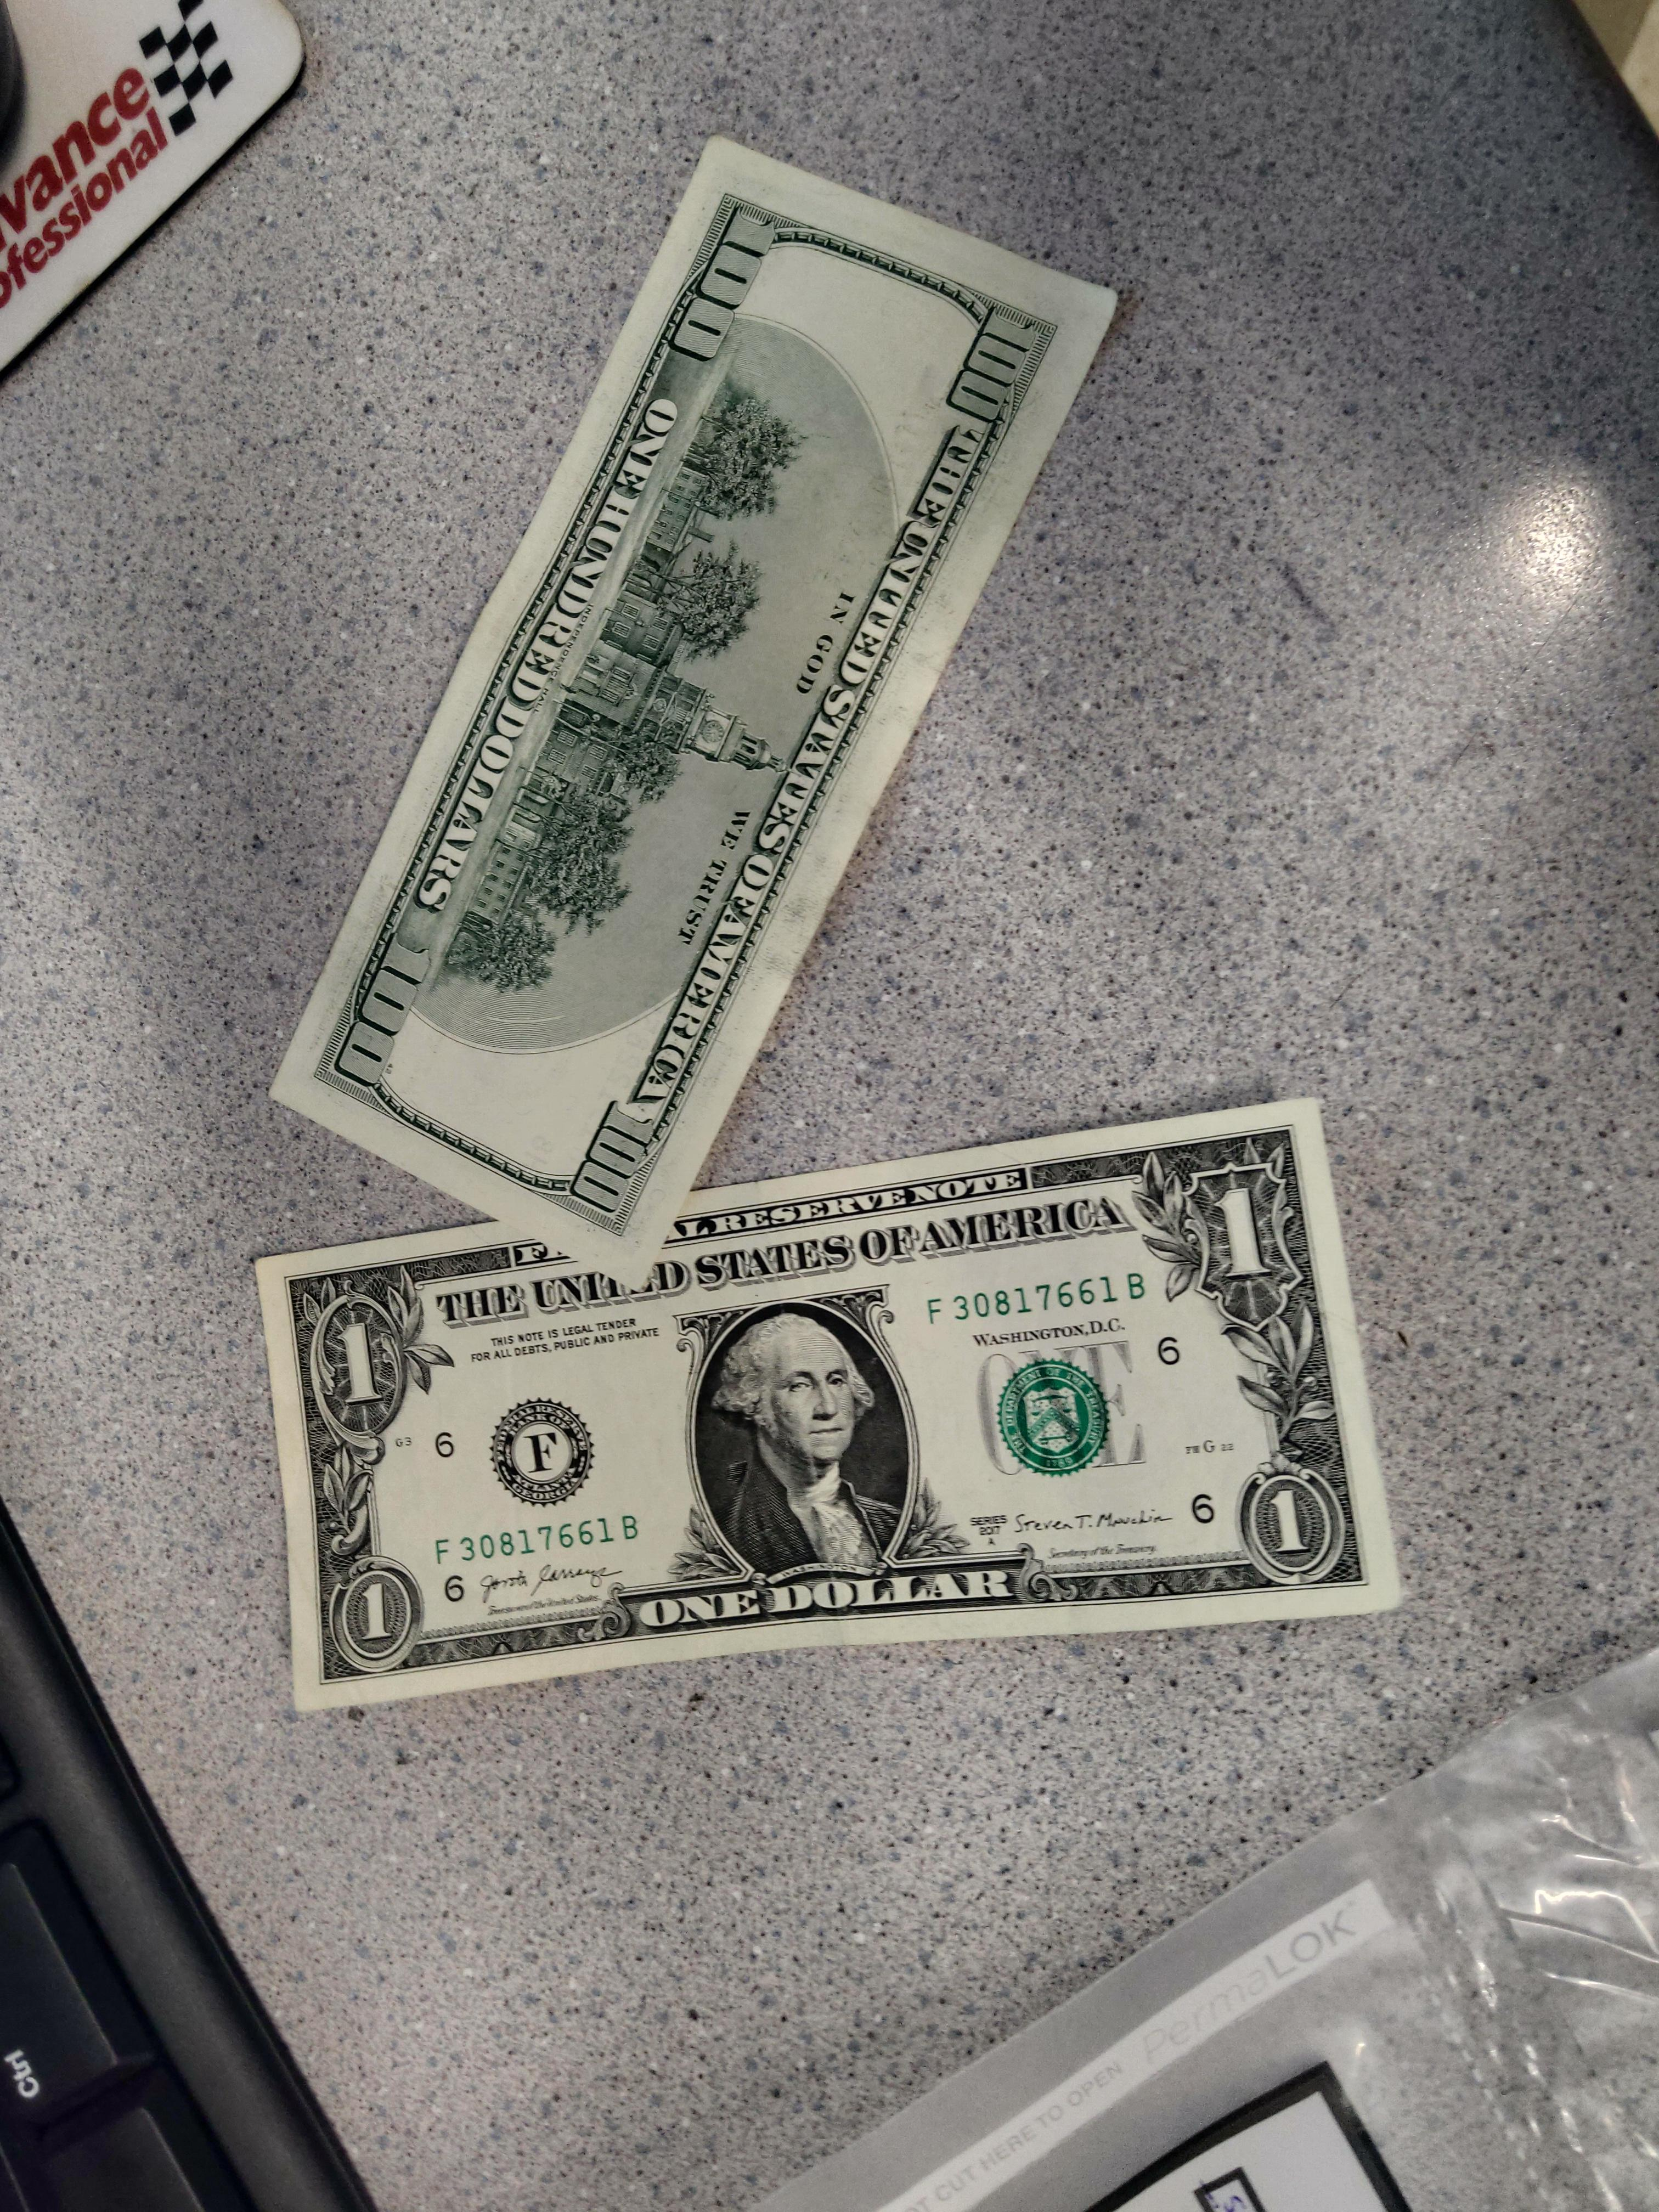HundredBill: (261, 129, 1129, 1291)
OneBill: (253, 1090, 1405, 1716)
